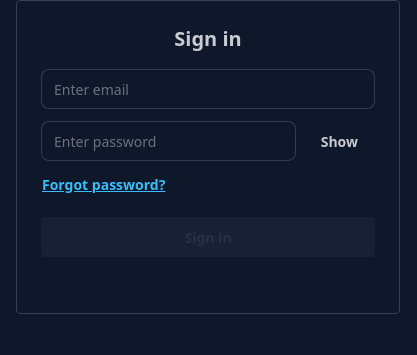
Test case: AuthForm password reset errors › renders mapped error on reset failure
Type "a@b.c" into the field labelled "Enter email". click: (208, 89)
box: [41,69,375,109]
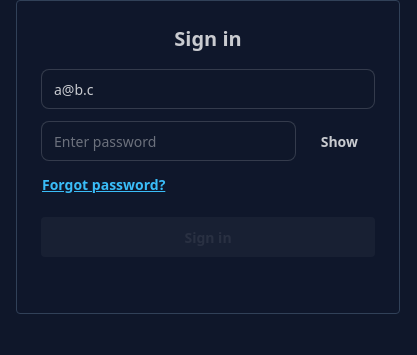
Click the button "Forgot password?". click: click(104, 185)
box: [41,165,166,205]
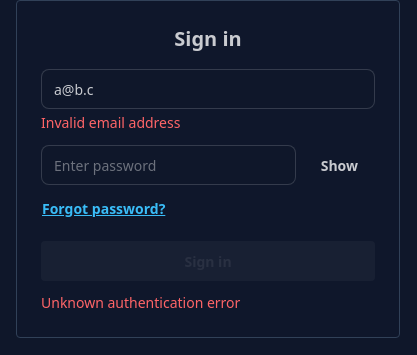
Check: the text "Invalid email address" is shown, box [41,113,180,132]
